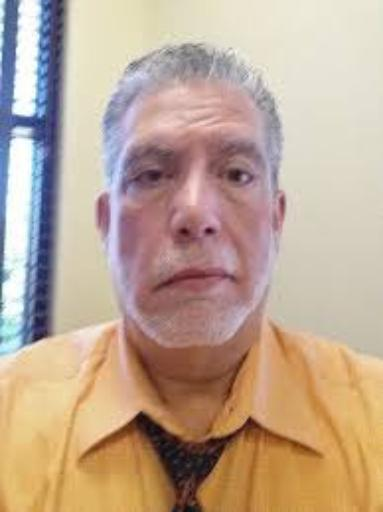left_eye: (219, 167, 259, 190)
left_lip_corner: (224, 269, 244, 289)
right_eye: (135, 168, 174, 192)
right_lip_corner: (150, 278, 170, 297)
